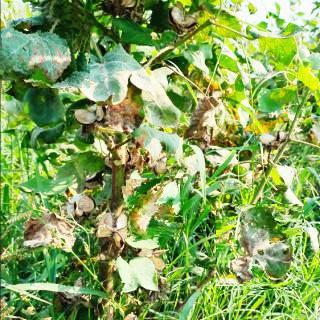blight: (0, 4, 90, 88), (122, 178, 183, 239)
leaf spot: (217, 204, 302, 290)
